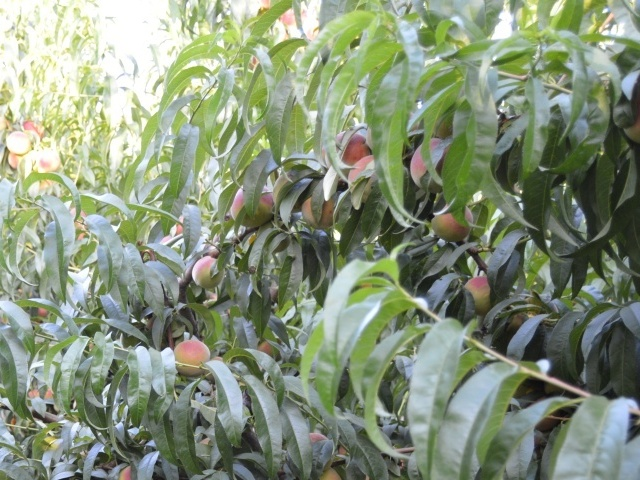peach: (406, 132, 456, 193), (225, 181, 279, 232), (427, 205, 478, 244), (328, 127, 376, 168), (343, 154, 378, 204), (169, 338, 212, 378), (299, 192, 340, 233), (459, 272, 497, 314), (191, 254, 229, 293), (4, 127, 34, 157), (33, 149, 64, 178), (3, 147, 27, 173), (22, 124, 43, 145)
